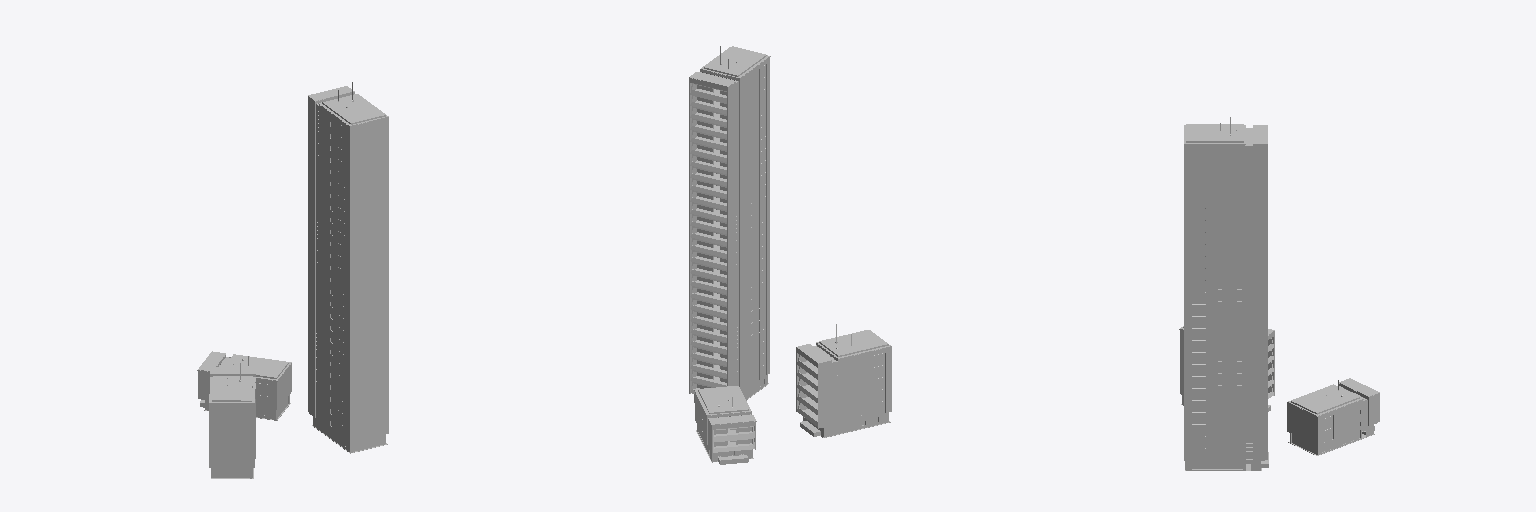
File: suburbs.obj
3 renders of one model, left to right at view 1: azimuth 30°, elevation 25°; view 2: azimuth 150°, elevation 25°; view 3: azimuth 270°, elevation 25°, orthographic.
Visible parts, largest first — view 1: Residential_Buildings_010_Cube.005, Residential_Buildings_003_Cube.011, Residential_Buildings_001_Cube.001; view 2: Residential_Buildings_010_Cube.005, Residential_Buildings_003_Cube.011, Residential_Buildings_001_Cube.001; view 3: Residential_Buildings_010_Cube.005, Residential_Buildings_001_Cube.001, Residential_Buildings_003_Cube.011.
Part boxes in pixels (left/top/right/bottom): Residential_Buildings_010_Cube.005: left=308, top=82, right=388, bottom=453; Residential_Buildings_003_Cube.011: left=209, top=363, right=255, bottom=478; Residential_Buildings_001_Cube.001: left=197, top=351, right=291, bottom=420; Residential_Buildings_010_Cube.005: left=689, top=46, right=770, bottom=402; Residential_Buildings_003_Cube.011: left=796, top=324, right=891, bottom=437; Residential_Buildings_001_Cube.001: left=694, top=386, right=756, bottom=464; Residential_Buildings_010_Cube.005: left=1184, top=117, right=1268, bottom=470; Residential_Buildings_001_Cube.001: left=1287, top=378, right=1379, bottom=455; Residential_Buildings_003_Cube.011: left=1179, top=326, right=1274, bottom=411.
Bounding box in the file's own units: 53.7 × 105 × 54.8.